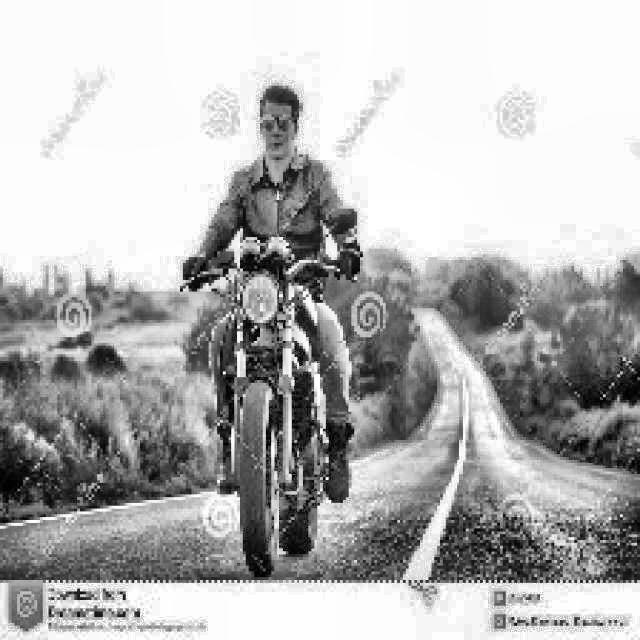motorcycle: (175, 203, 382, 581)
